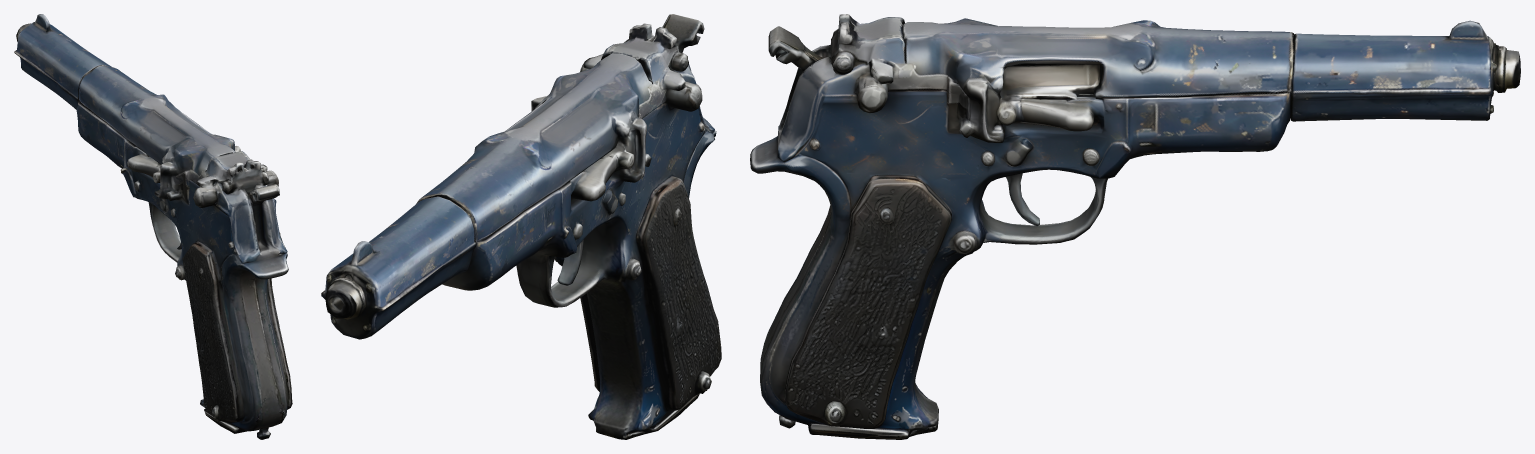
3 views of the same model, side by side, from view 1: azimuth 30°, elevation 25°; view 2: azimuth 150°, elevation 25°; view 3: azimuth 270°, elevation 25° (orthographic). The views are drawn at different scales.
Visible parts, largest first — view 1: tripo_node_522f78a0-9d2d-4456-9d17-aaeb9c97c700; view 2: tripo_node_522f78a0-9d2d-4456-9d17-aaeb9c97c700; view 3: tripo_node_522f78a0-9d2d-4456-9d17-aaeb9c97c700.
Boxes of the visible parts, x1=… form: tripo_node_522f78a0-9d2d-4456-9d17-aaeb9c97c700: x1=14, y1=14, x2=292, y2=439; tripo_node_522f78a0-9d2d-4456-9d17-aaeb9c97c700: x1=321, y1=14, x2=721, y2=439; tripo_node_522f78a0-9d2d-4456-9d17-aaeb9c97c700: x1=750, y1=14, x2=1520, y2=439.
Bounding box in the file's own units: 0.1823 × 0.5727 × 0.9807.
Materials: 1 (1 with a texture image).
